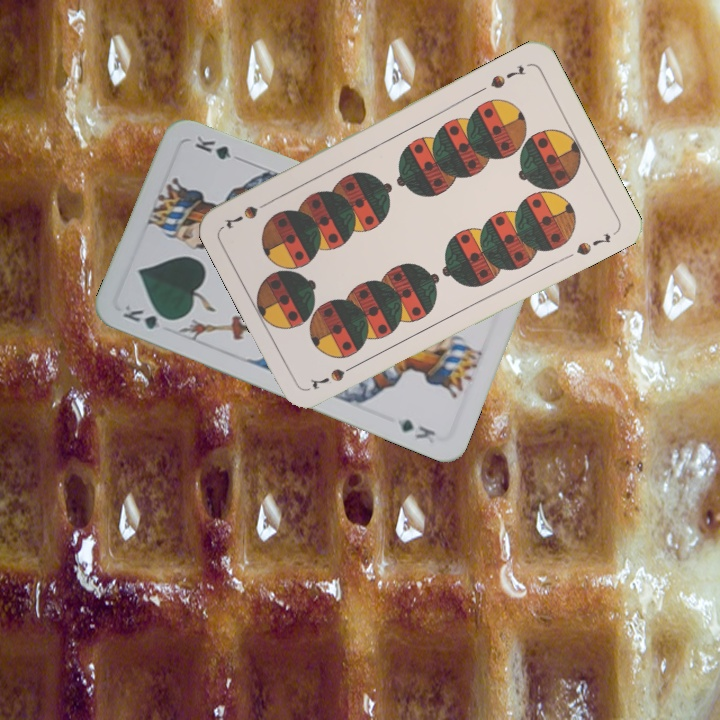GK: (118, 301, 176, 332)
S7: (306, 359, 361, 392), (486, 61, 528, 91)
